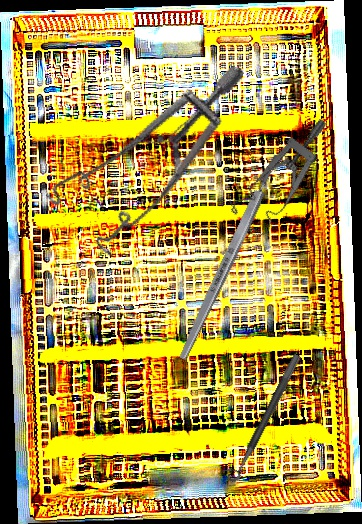Fixation Ring: (217, 347, 303, 485)
Scalpel Handle: (176, 152, 283, 362)
Speculum: (34, 22, 245, 278), (213, 117, 360, 243)
